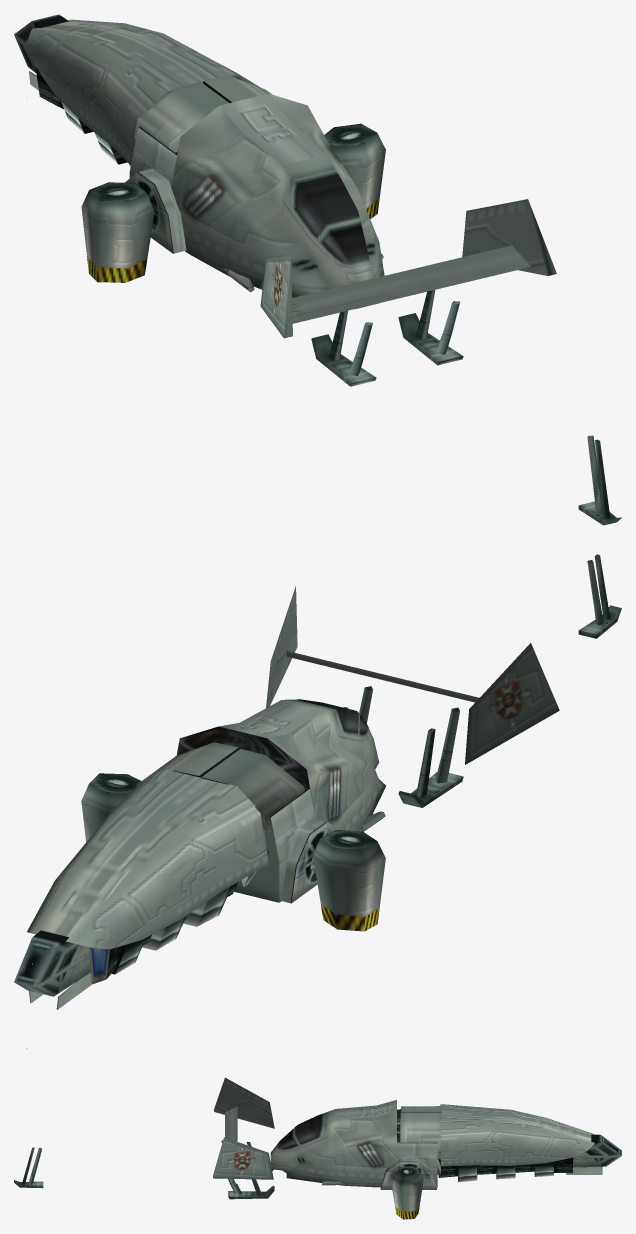
The model's file is bom07.obj.
3 views of the same model, one above another, from view 1: azimuth 30°, elevation 25°; view 2: azimuth 150°, elevation 25°; view 3: azimuth 270°, elevation 25° (orthographic). The views are drawn at different scales.
Visible parts, largest first — view 1: frm-ffuselg, frm-tafuselg, frm-rthruster, frm-finzzz1, frm-rfinzzz, frm-lthruster, frm-rwepbar, frm-rffuselg, frm-LLl, frm-LLr, frm-lfinzzz, frm-LLa (+3 smaller); view 2: frm-tafuselg, frm-ffuselg, frm-rthruster, frm-lfinzzz, frm-rwepbar, frm-mafuselg, frm-booster, frm-rffuselg, frm-LLl, frm-lthruster, frm-rfinzzz, frm-lwepbar (+2 smaller); view 3: frm-ffuselg, frm-tafuselg, frm-rfinzzz, frm-booster, frm-lfinzzz, frm-lthruster, frm-lwepbar, frm-mafuselg, frm-lffuselg, frm-LLr, frm-LLa, frm-finzzz1 (+2 smaller).
Part boxes in pixels (x1,y1,x2,y2): frm-ffuselg: (129,93,384,309); frm-tafuselg: (26,19,259,165); frm-rthruster: (81,182,154,282); frm-finzzz1: (292,245,530,323); frm-rfinzzz: (462,199,556,275); frm-lthruster: (324,123,385,219); frm-rwepbar: (134,81,229,152); frm-rffuselg: (125,168,186,253); frm-LLl: (311,310,376,386); frm-LLr: (398,290,463,365); frm-lfinzzz: (260,255,292,338); frm-LLa: (578,435,621,525); frm-tafuselg: (27,769,268,949); frm-ffuselg: (176,699,385,902); frm-rthruster: (313,830,385,931); frm-lfinzzz: (465,643,559,764); frm-rwepbar: (201,748,304,834); frm-mafuselg: (14,930,90,996); frm-booster: (89,881,238,984); frm-rffuselg: (280,818,336,903); frm-LLl: (398,707,463,807); frm-lthruster: (81,773,141,841); frm-rfinzzz: (266,586,297,707); frm-lwepbar: (136,742,238,786); frm-ffuselg: (270,1100,437,1187); frm-tafuselg: (440,1104,594,1166); frm-rfinzzz: (213,1137,273,1179); frm-booster: (438,1157,573,1182); frm-lfinzzz: (214,1077,274,1128); frm-lthruster: (391,1166,423,1219); frm-lwepbar: (400,1112,440,1151); frm-mafuselg: (437,1134,621,1167); frm-lffuselg: (380,1157,436,1189); frm-LLr: (228,1178,274,1199); frm-LLa: (14,1147,43,1188); frm-finzzz1: (225,1107,237,1141).
Size of what is drawn, in the model's own units: 5.31 by 2.75 by 18.73.
